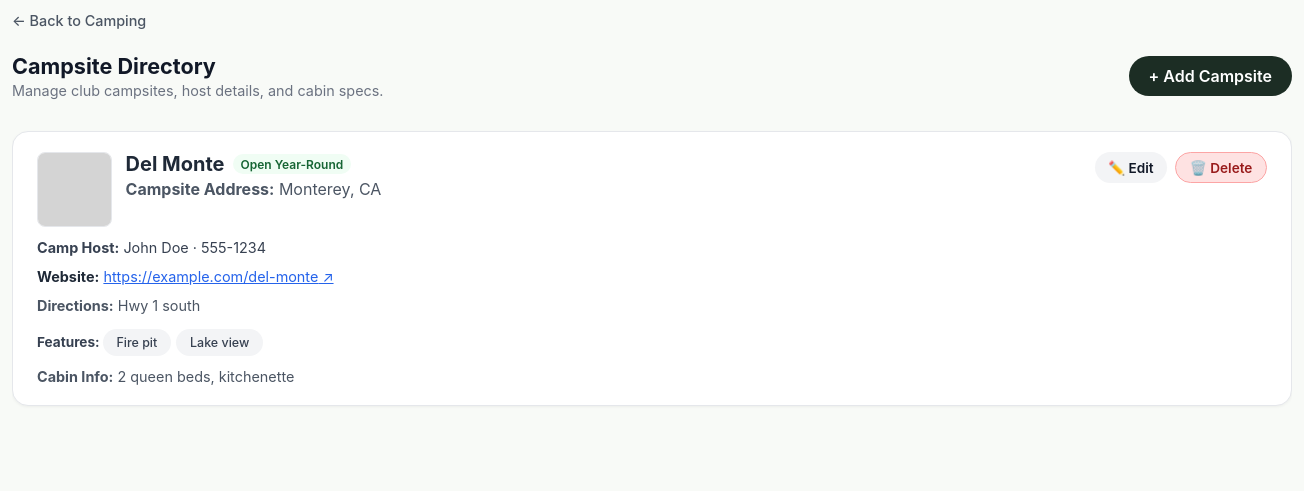
Scenario: AdminCampsitesPage › allows deleting a campsite after confirmation
Expected: the heading "Del Monte" is shown, [126, 152, 224, 176]
What coordinates should you click on to do the following:
click the button "🗑️ Delete"
I would click on:
 (1221, 168)
Its box is [1175, 152, 1267, 183].
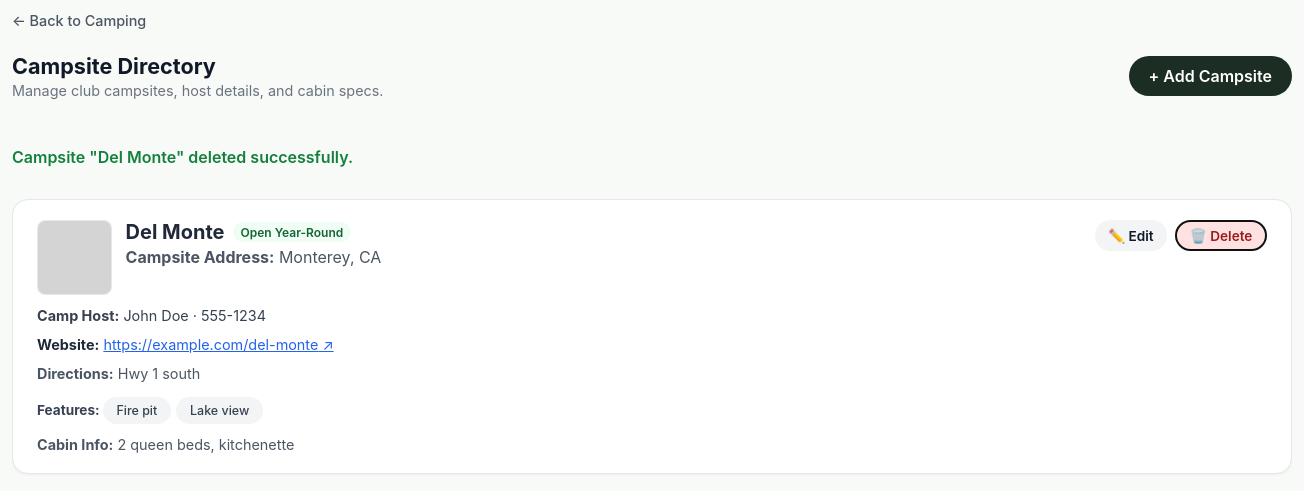
Expected: the text "Campsite \"Del Monte\" deleted successfully." is shown, [12, 147, 353, 167]
